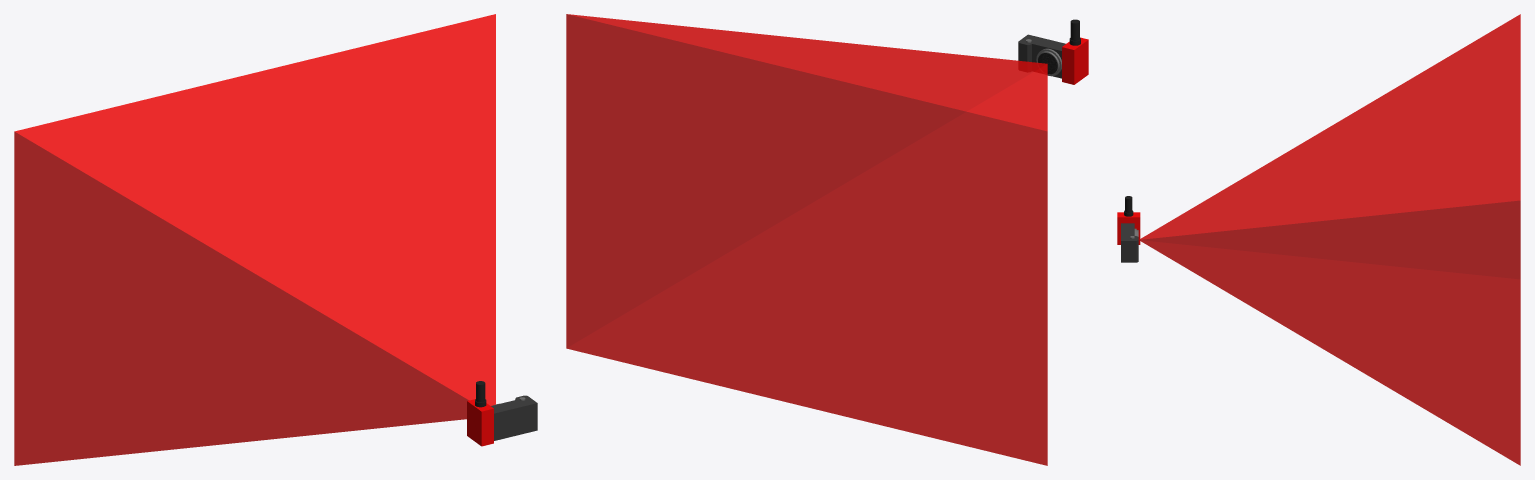
Rendered from DrobitRed.dae.
3 views of the same model, side by side, from view 1: azimuth 30°, elevation 25°; view 2: azimuth 150°, elevation 25°; view 3: azimuth 270°, elevation 25° (orthographic). The views are drawn at different scales.
Parts seen in each view (by area): view 1: group_10, group_7, group_3; view 2: group_10, group_3, group_7; view 3: group_10, group_7, group_3.
Boxes of the visible parts, <box> form: group_10: <box>14,14,495,465</box>; group_7: <box>491,395,537,440</box>; group_3: <box>467,399,493,446</box>; group_10: <box>566,14,1047,465</box>; group_3: <box>1062,37,1088,84</box>; group_7: <box>1018,34,1065,78</box>; group_10: <box>1139,14,1520,465</box>; group_7: <box>1121,223,1138,262</box>; group_3: <box>1117,212,1140,244</box>.
Bounding box in the file's own units: 45.46 × 41.56 × 30.18.
